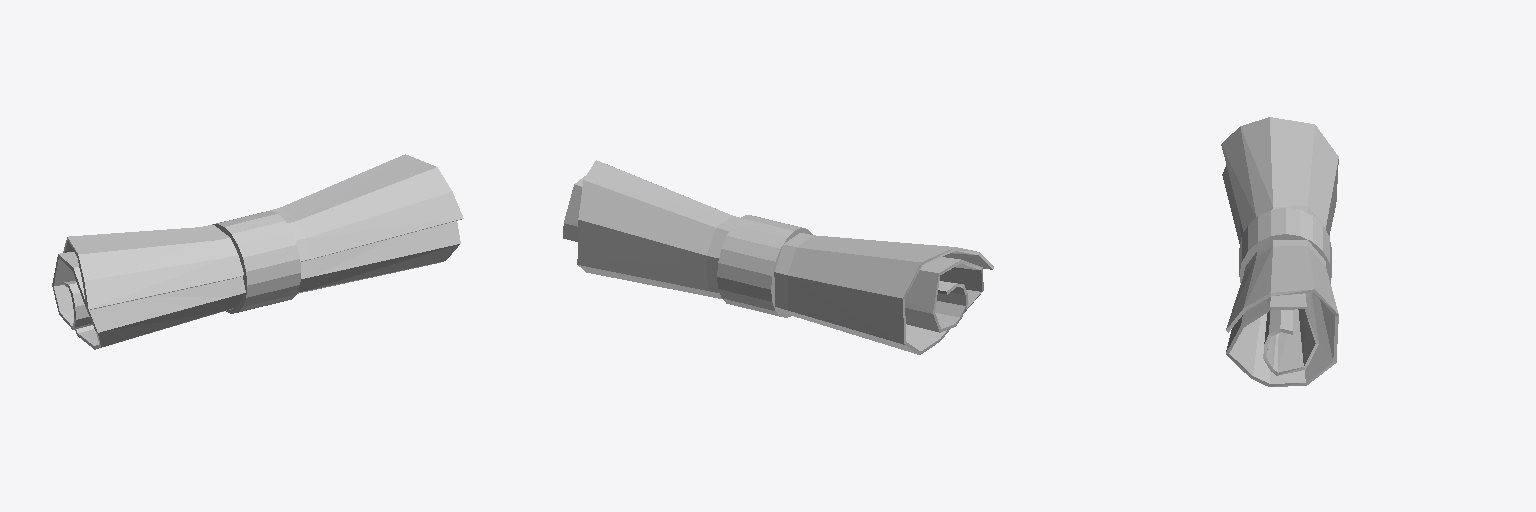
The model's file is Scroll_1.obj.
3 views of the same model, side by side, from view 1: azimuth 30°, elevation 25°; view 2: azimuth 150°, elevation 25°; view 3: azimuth 270°, elevation 25° (orthographic).
Parts seen in each view (by area): view 1: Scroll_1_Cube.152; view 2: Scroll_1_Cube.152; view 3: Scroll_1_Cube.152.
Boxes of the visible parts, box(x1,y1,x2,y2) form: Scroll_1_Cube.152: box(52, 154, 463, 349); Scroll_1_Cube.152: box(563, 160, 993, 354); Scroll_1_Cube.152: box(1221, 117, 1338, 386).
Bounding box in the file's own units: 0.2439 × 0.0588 × 0.0631.